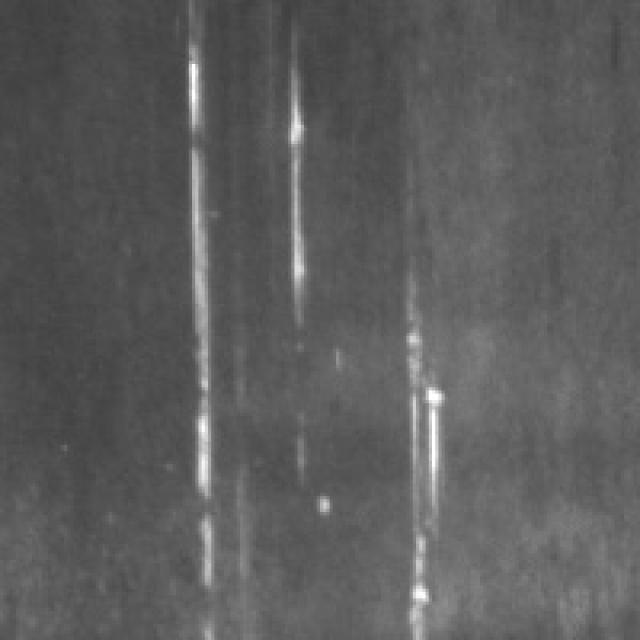scratches: (170, 29, 240, 592), (397, 307, 464, 637), (275, 41, 330, 332)
